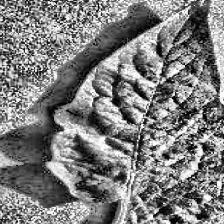spider mites: (49, 0, 224, 224)
